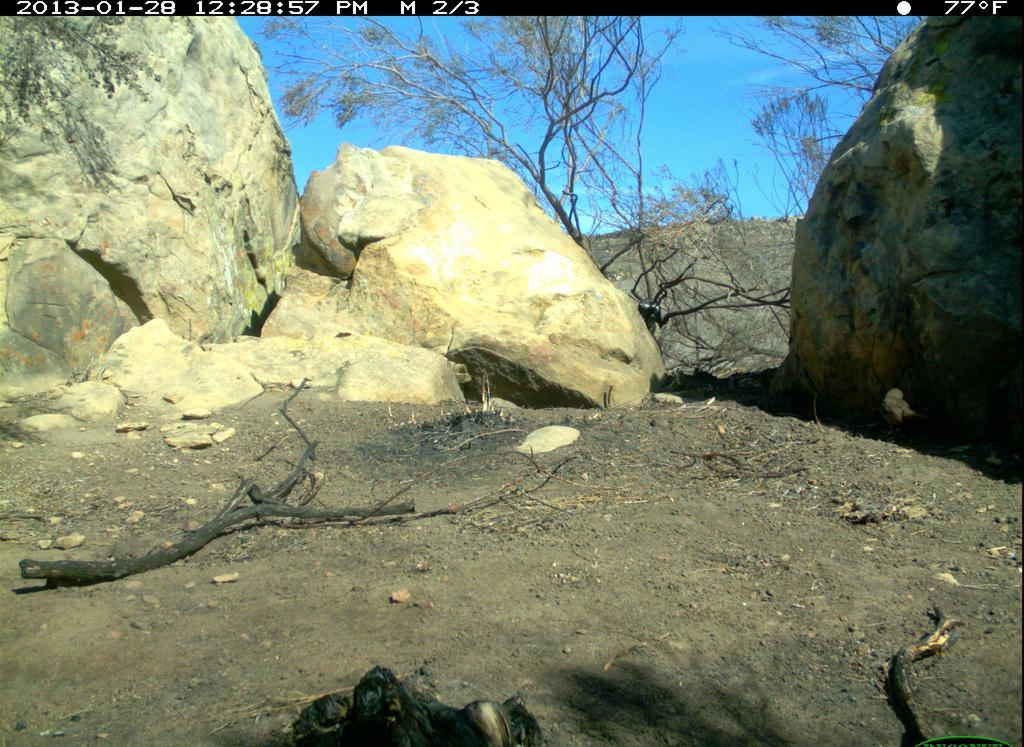bird: (876, 383, 934, 449)
